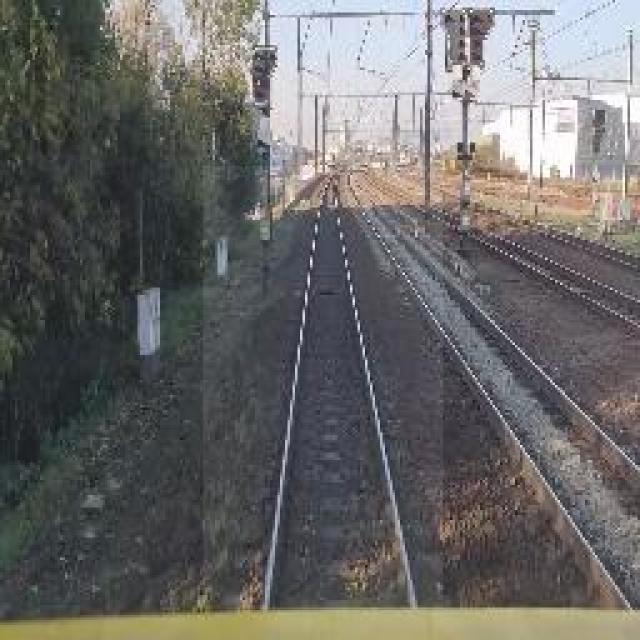rail: (204, 167, 444, 610)
